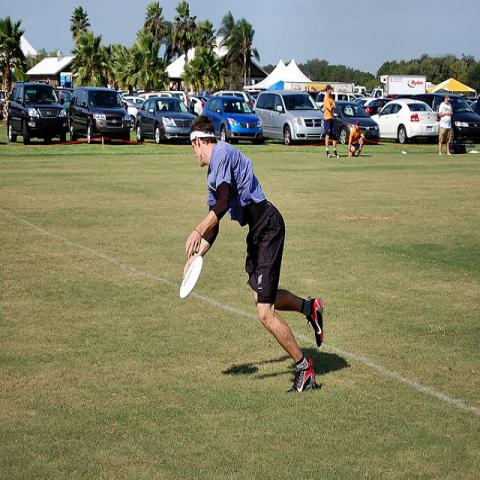car: (136, 74, 426, 114), (252, 88, 325, 146), (413, 92, 479, 147), (369, 98, 440, 142), (202, 96, 263, 145), (136, 96, 197, 144), (332, 100, 380, 145), (122, 98, 142, 131), (363, 98, 395, 117), (54, 88, 72, 112), (188, 96, 206, 116), (123, 96, 146, 108)
truck: (6, 80, 70, 147), (68, 88, 130, 144), (366, 76, 426, 100), (267, 80, 354, 94), (316, 91, 365, 107)
